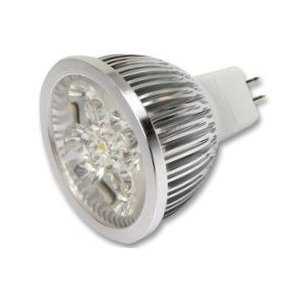Light_bulb: (34, 48, 271, 252)
